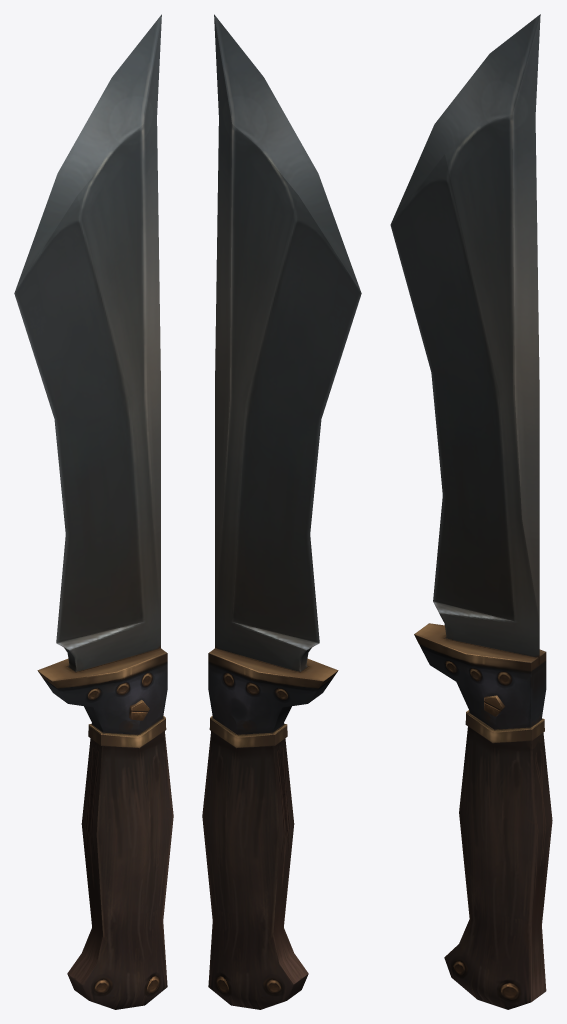
Rendered from 98_weapon.FBX.
3 renders of one model, left to right at view 1: azimuth 30°, elevation 25°; view 2: azimuth 150°, elevation 25°; view 3: azimuth 330°, elevation 25°, orthographic.
Visible parts, largest first — view 1: 98_weapon; view 2: 98_weapon; view 3: 98_weapon.
Boxes of the visible parts, x1=… form: 98_weapon: x1=14, y1=14, x2=173, y2=1009; 98_weapon: x1=202, y1=14, x2=361, y2=1009; 98_weapon: x1=390, y1=14, x2=552, y2=1009.
Bounding box in the file's own units: 198 × 1218 × 66.27.
